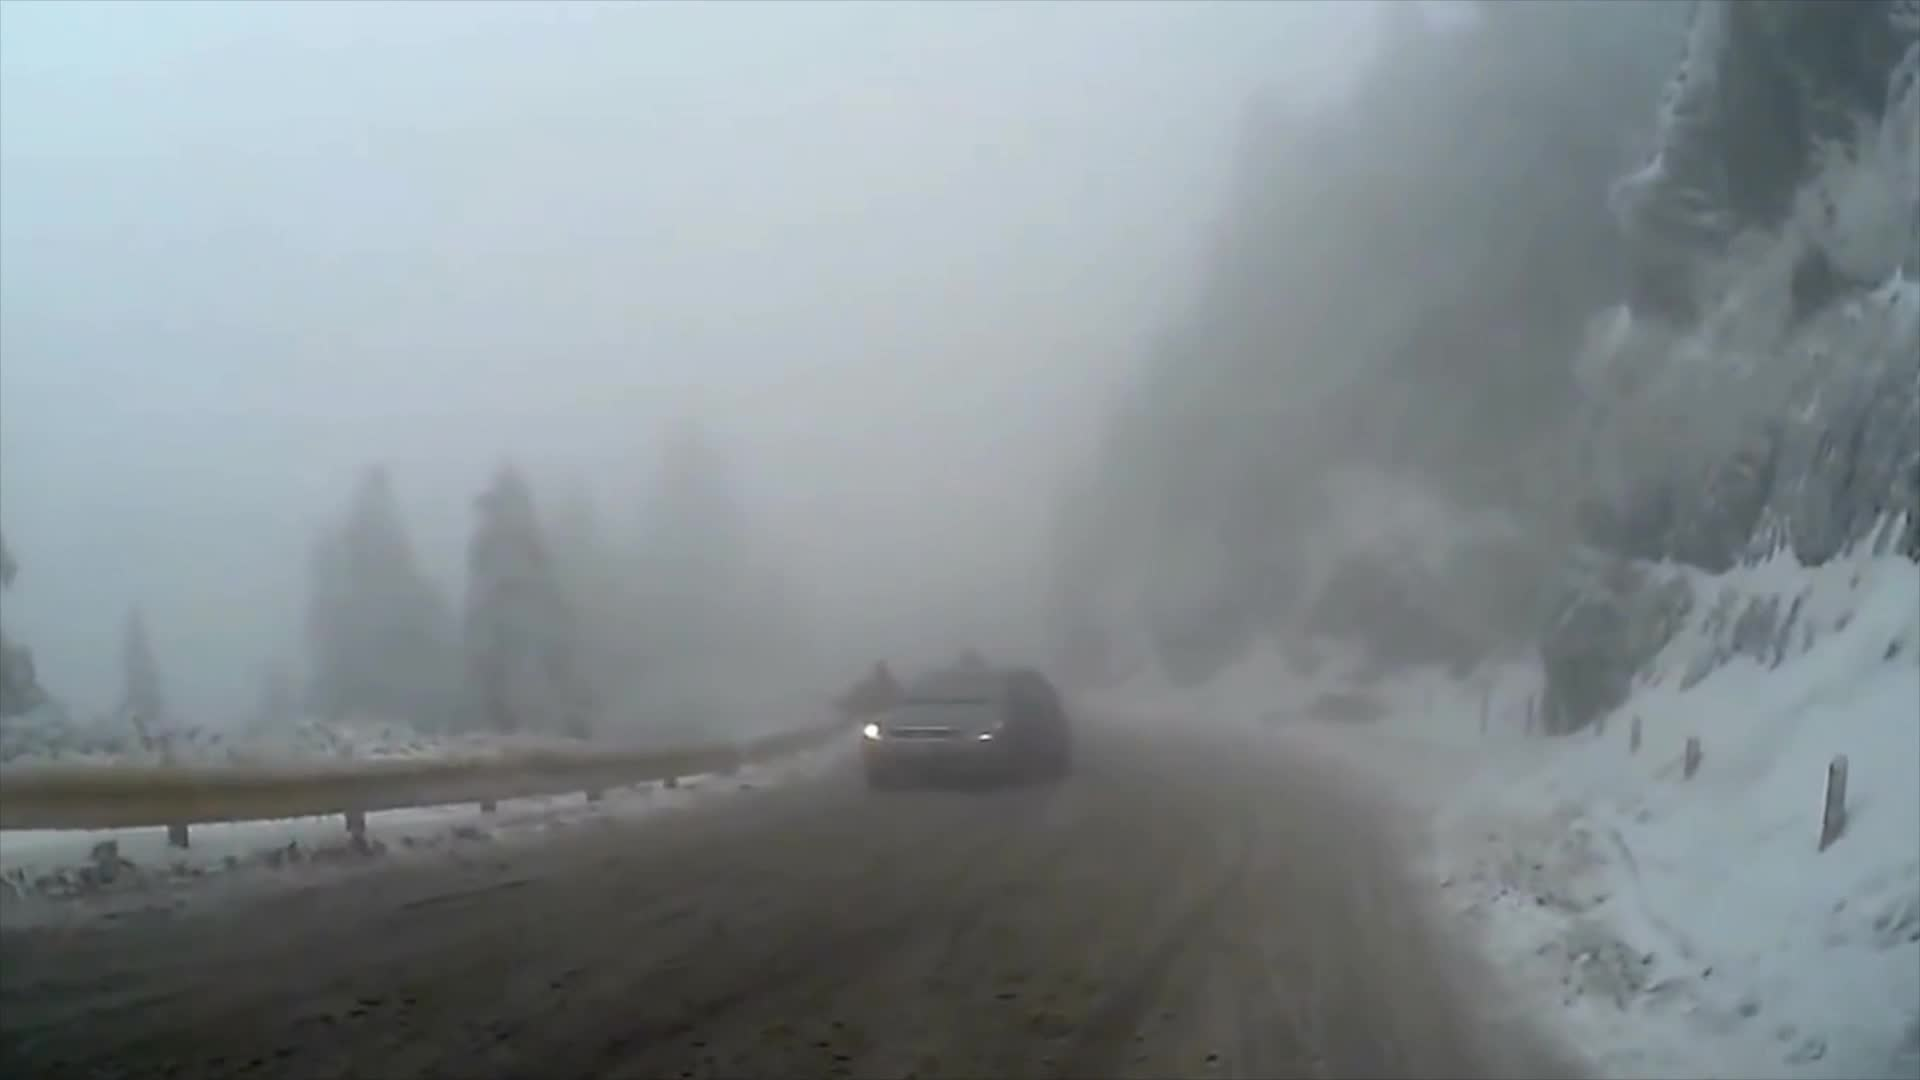vehicle: (866, 665, 1072, 795)
